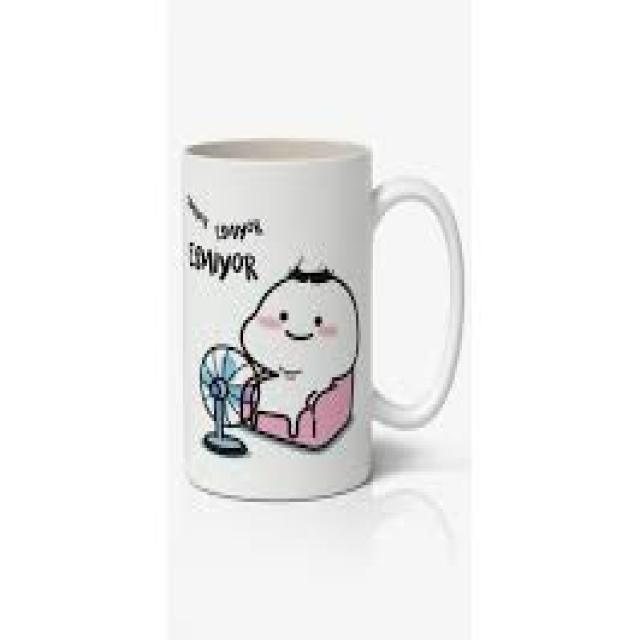taza: (180, 138, 466, 503)
